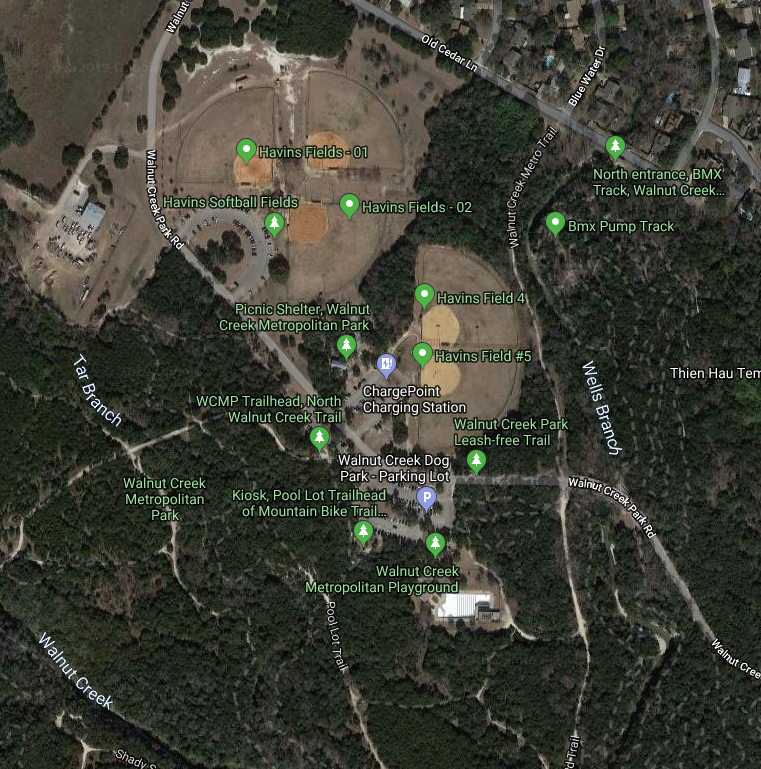baseball: (308, 55, 425, 193), (167, 84, 293, 208)
